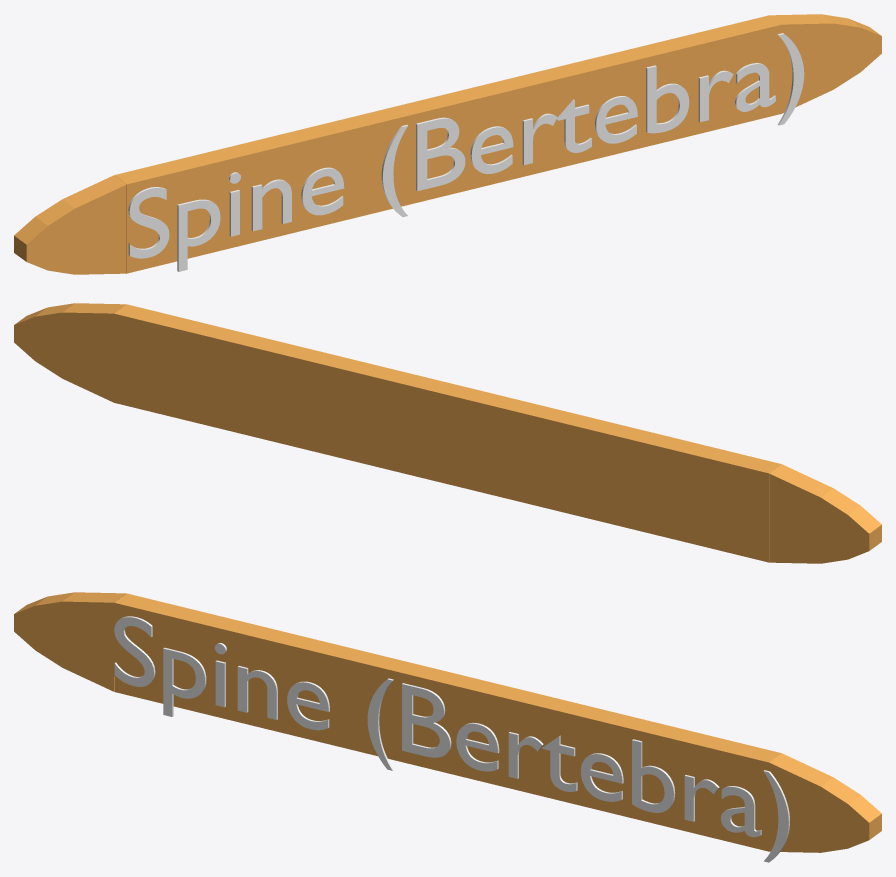
Rendered from txtSpine.fbx.
3 renders of one model, top to bottom at view 1: azimuth 30°, elevation 25°; view 2: azimuth 150°, elevation 25°; view 3: azimuth 330°, elevation 25°, orthographic.
Parts seen in each view (by area): view 1: TagContainer.051, Text.052; view 2: TagContainer.051; view 3: TagContainer.051, Text.052.
Boxes of the visible parts, x1,y1,x2,y2 form: TagContainer.051: [14, 14, 881, 274]; Text.052: [128, 33, 804, 271]; TagContainer.051: [14, 303, 881, 563]; TagContainer.051: [14, 592, 881, 852]; Text.052: [114, 616, 789, 862].
Size of the model in its own units: 414 by 45.81 by 11.79.
